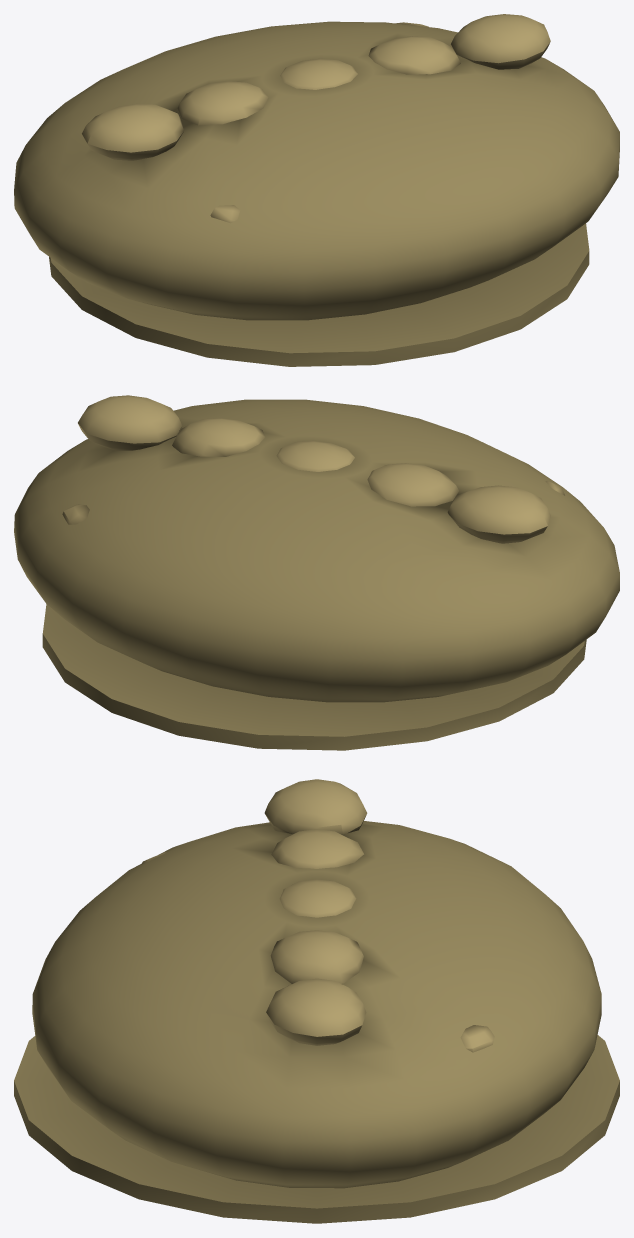
File: shell.glb
3 renders of one model, top to bottom at view 1: azimuth 30°, elevation 25°; view 2: azimuth 150°, elevation 25°; view 3: azimuth 270°, elevation 25°, orthographic. The views are drawn at different scales.
Visible parts, largest first — view 1: boat_shellc, boat_scute; view 2: boat_shellc, boat_scute; view 3: boat_shellc, boat_scute.
Boxes of the visible parts, bbox=[...] form: boat_shellc: bbox=[14, 21, 619, 366]; boat_scute: bbox=[82, 14, 550, 223]; boat_shellc: bbox=[14, 399, 619, 750]; boat_scute: bbox=[62, 395, 564, 543]; boat_shellc: bbox=[14, 821, 619, 1223]; boat_scute: bbox=[141, 779, 494, 1052].
Size of the model in its own units: 0.8302 by 0.2904 by 0.72.
